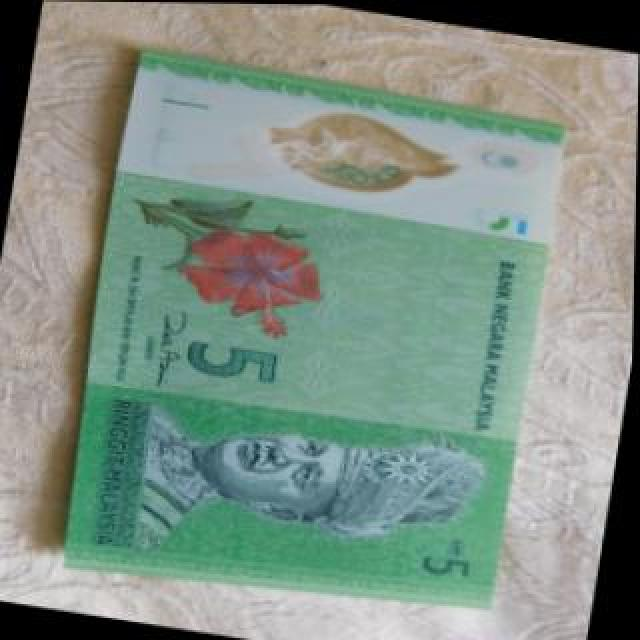5 Ringgit: (46, 46, 572, 626)
